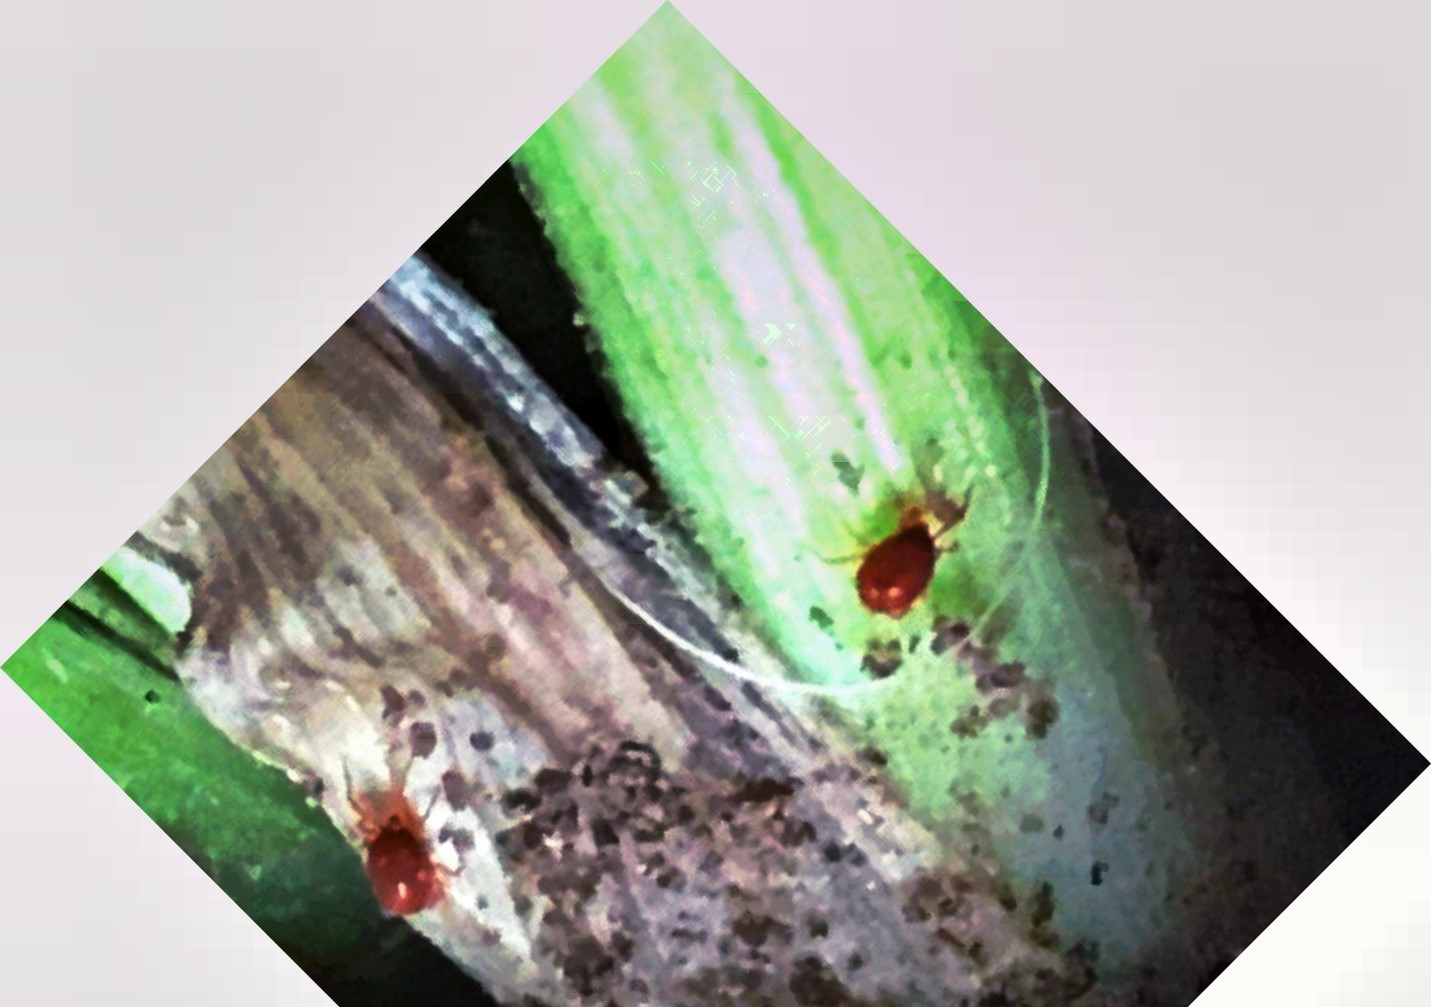Wheat Red Spider: (328, 751, 486, 943), (826, 457, 992, 630)
